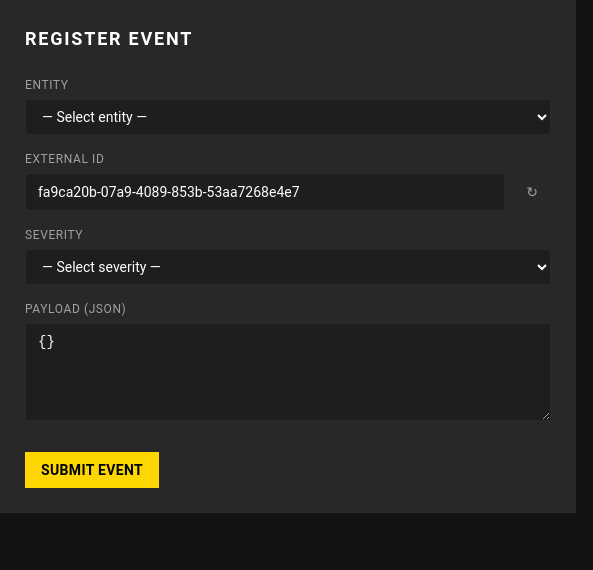
Test case: EventForm › shows validation errors when submitted empty
Click the button "Submit Event".
click(92, 470)  # box [25,452,159,488]
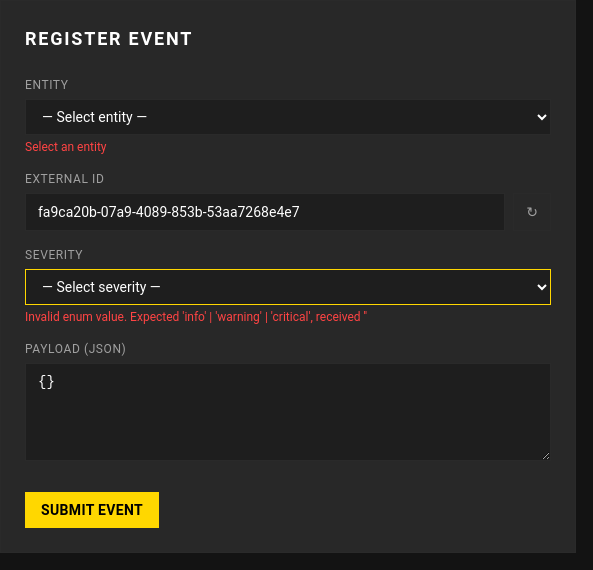
Check: the text "Select an entity" is shown, box [25,140,106,154]
